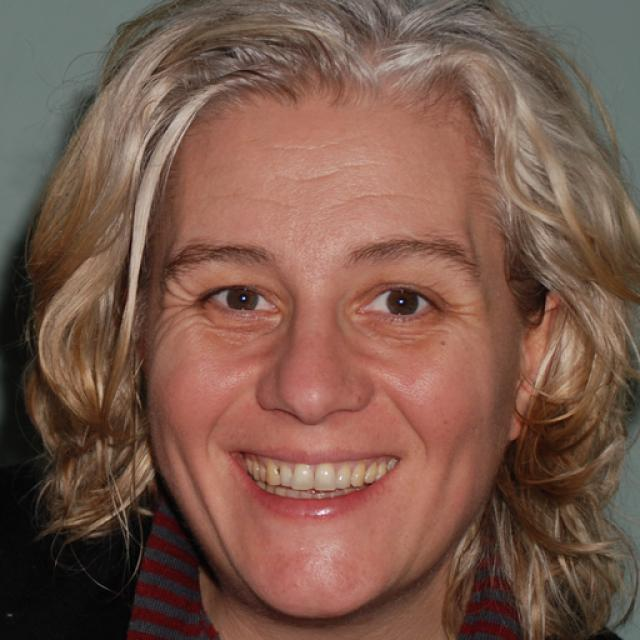Acne: (351, 386, 367, 407)
Wrinkle: (276, 155, 385, 187), (199, 389, 240, 467), (390, 395, 430, 466), (332, 189, 437, 214), (211, 188, 304, 214), (262, 139, 349, 155)
